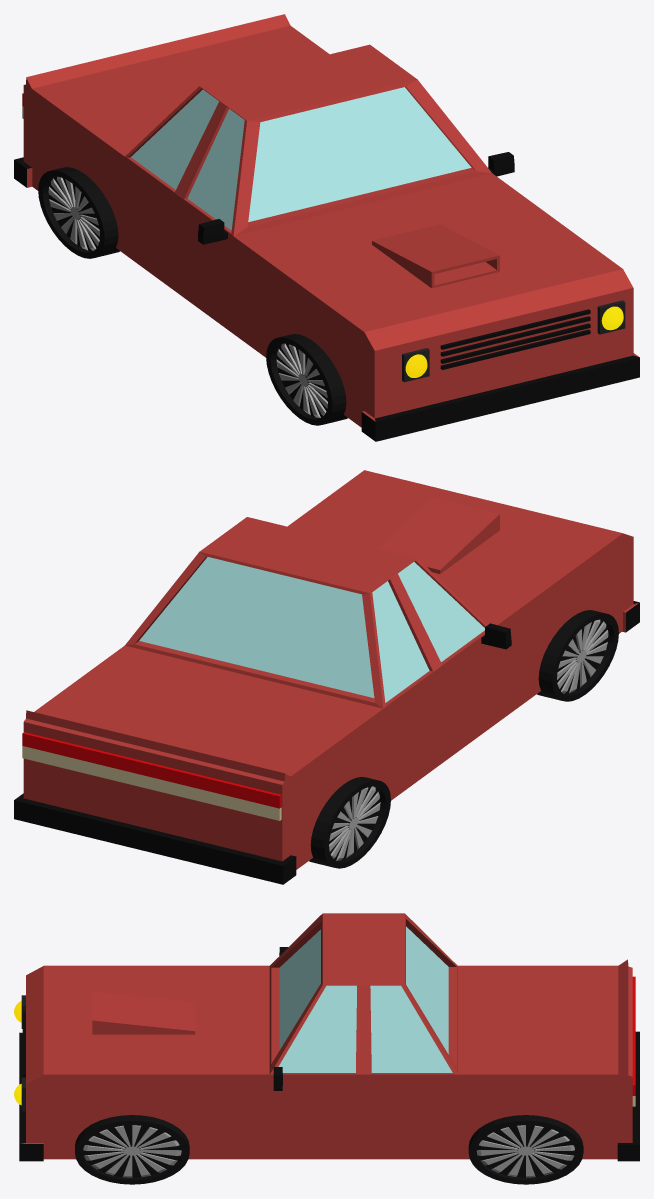
File: Cartoon_Cars_Blend1.glb
3 renders of one model, top to bottom at view 1: azimuth 30°, elevation 25°; view 2: azimuth 150°, elevation 25°; view 3: azimuth 270°, elevation 25°, orthographic. The views are drawn at different scales.
Parts seen in each view (by area): view 1: 4, Cylinder.009, Plane, Cube.011, Cube.006, Cube.010, Cube.005, Cube.009; view 2: 4, Cylinder.009, Cube.007, Plane, Cube.009; view 3: 4, Cylinder.009, Plane, Cube.007.
Part boxes in pixels (x1=…): 4: x1=14, y1=14, x2=639, y2=441; Cylinder.009: x1=38, y1=167, x2=347, y2=425; Plane: x1=372, y1=224, x2=499, y2=288; Cube.011: x1=440, y1=309, x2=590, y2=349; Cube.006: x1=440, y1=329, x2=590, y2=369; Cube.010: x1=440, y1=316, x2=590, y2=356; Cube.005: x1=440, y1=323, x2=590, y2=363; Cube.009: x1=198, y1=219, x2=227, y2=244; 4: x1=14, y1=470, x2=639, y2=884; Cylinder.009: x1=309, y1=610, x2=618, y2=868; Cube.007: x1=22, y1=732, x2=281, y2=820; Plane: x1=377, y1=497, x2=499, y2=573; Cube.009: x1=481, y1=623, x2=511, y2=649; 4: x1=19, y1=913, x2=639, y2=1161; Cylinder.009: x1=75, y1=1115, x2=583, y2=1184; Plane: x1=92, y1=992, x2=195, y2=1034; Cube.007: x1=632, y1=976, x2=635, y2=1106.
Bounding box in the file's own units: 2.85 × 1.79 × 5.81.
